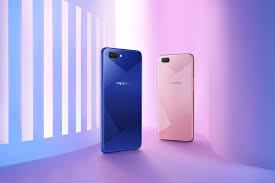oppo: (98, 45, 142, 154), (154, 49, 194, 144)
